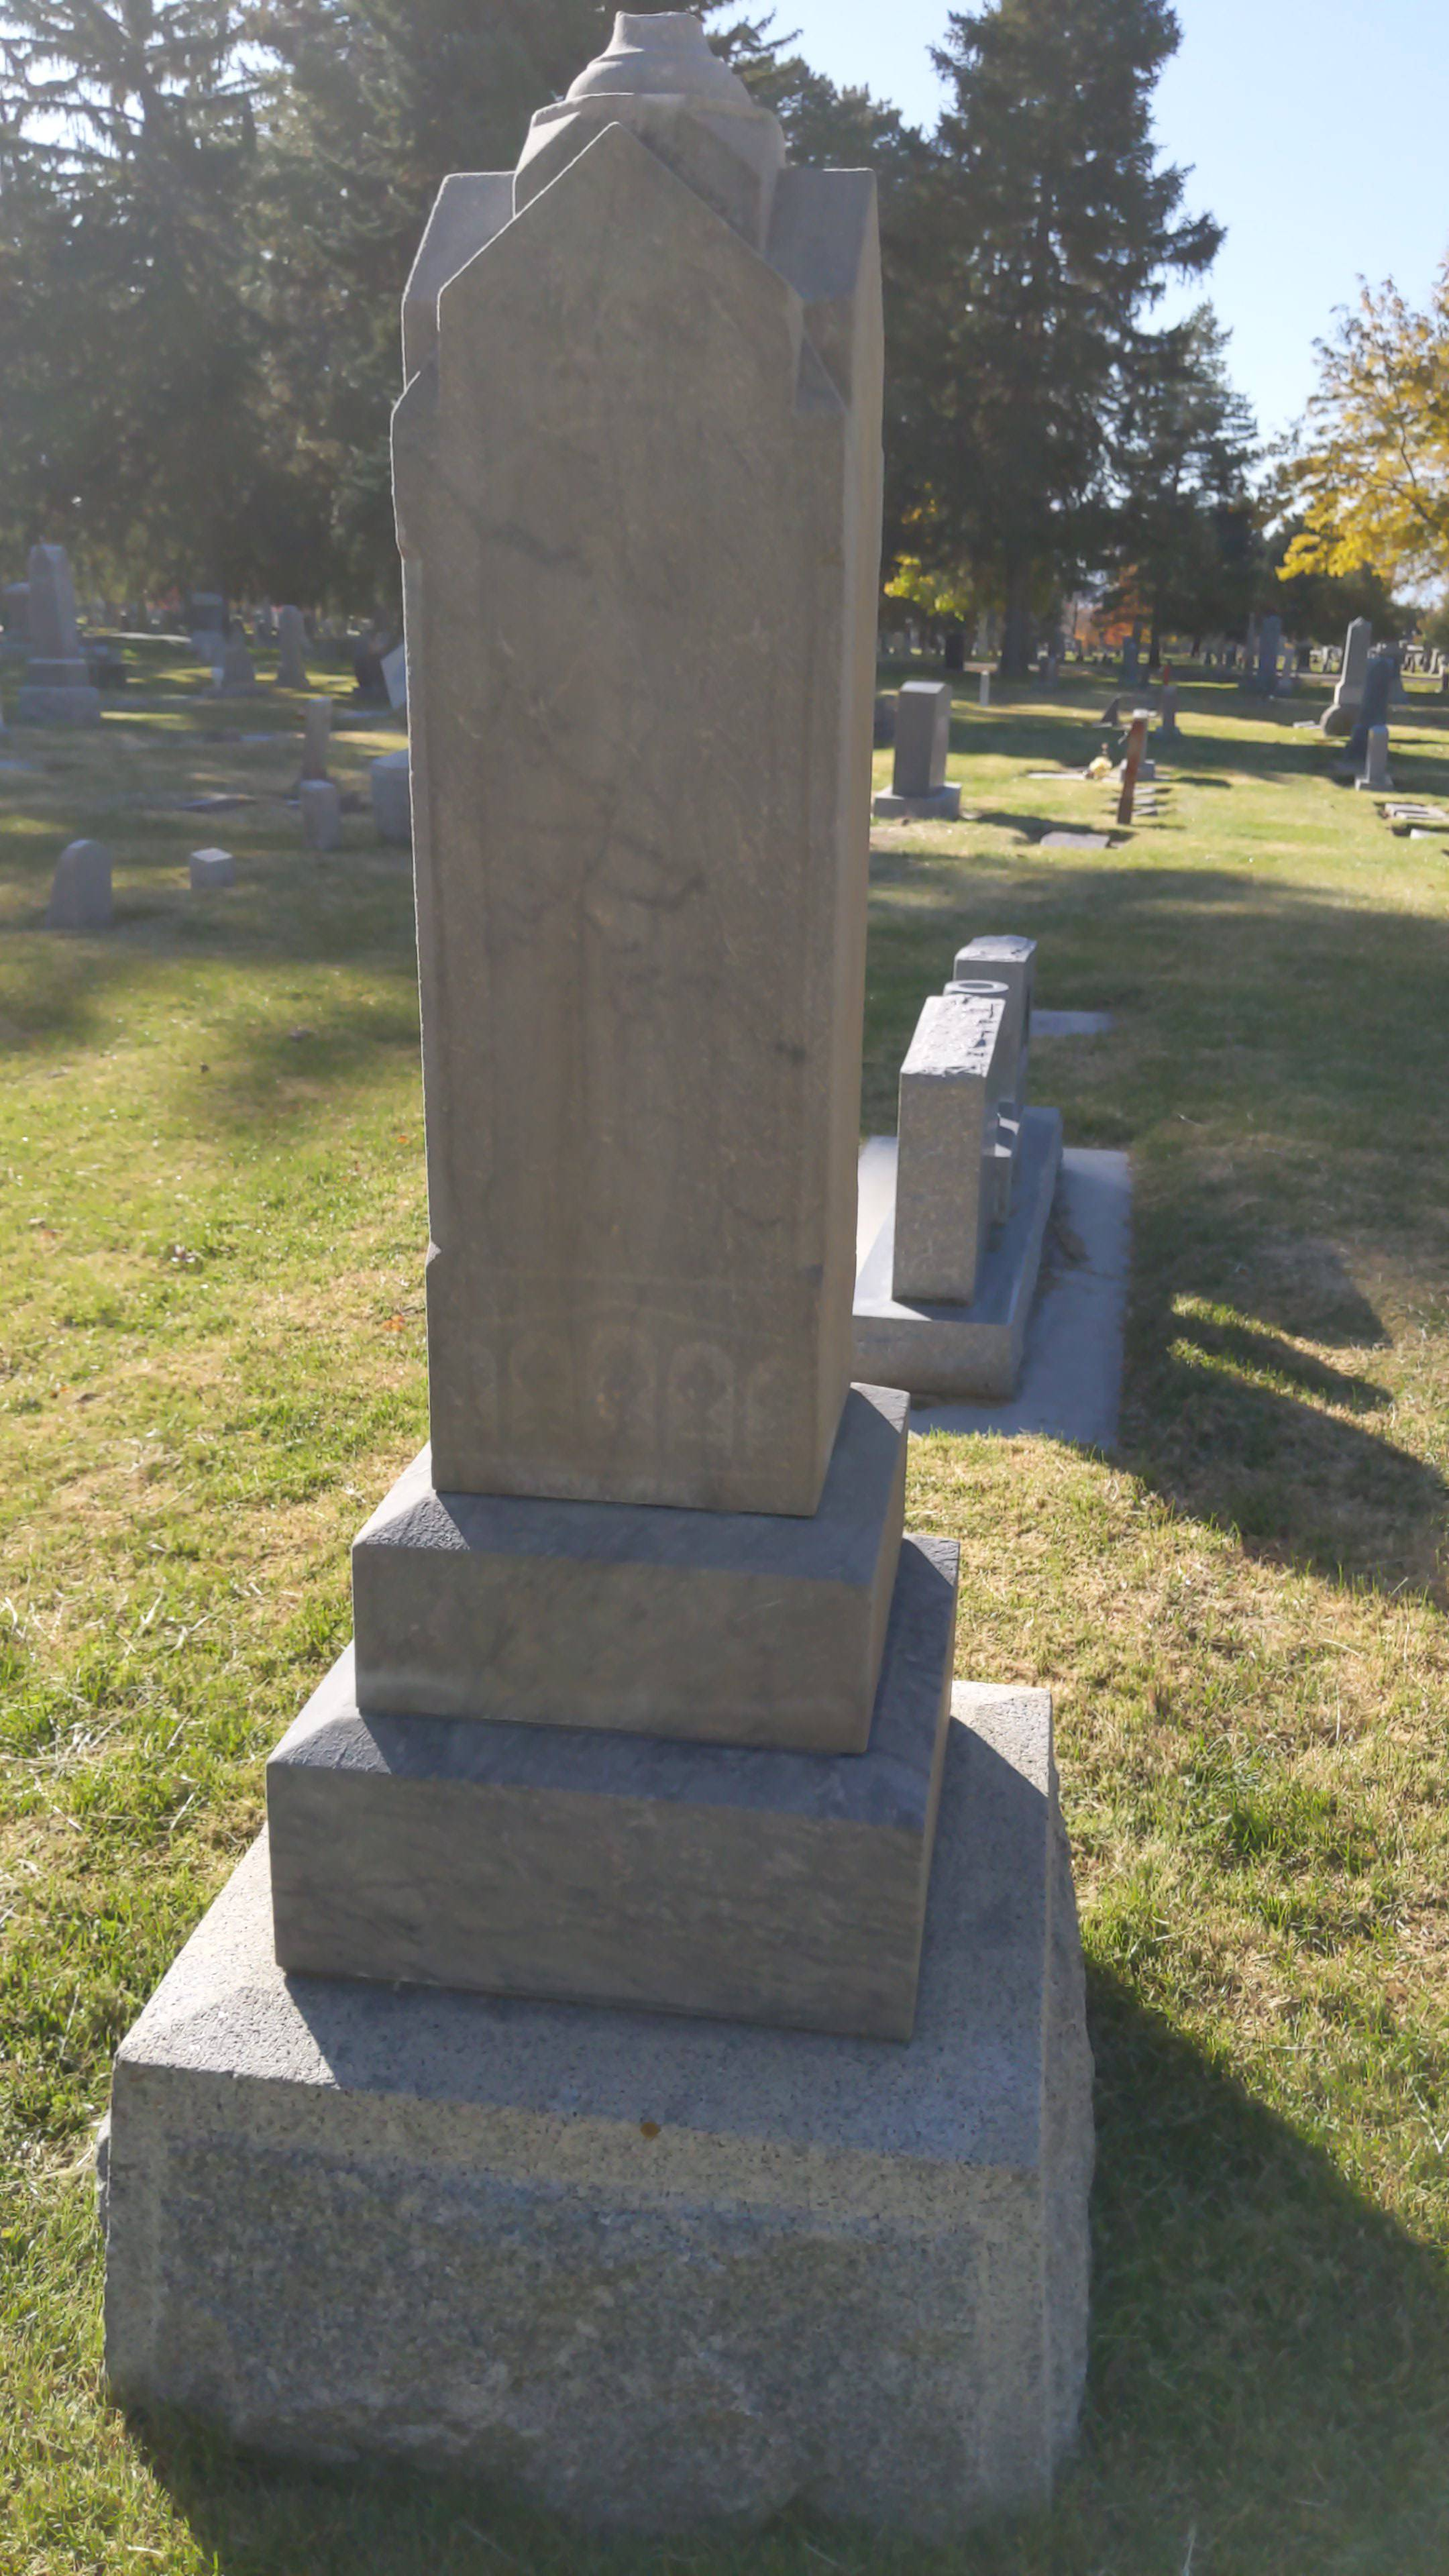obelisk: (280, 0, 957, 2045)
